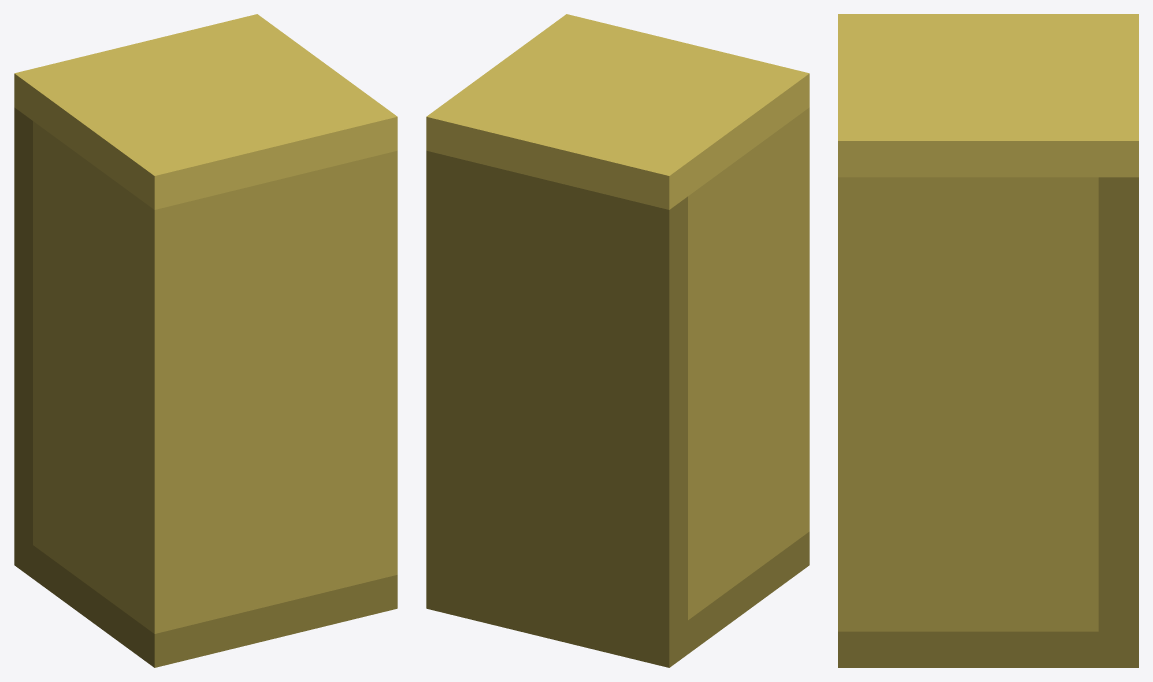
Rendered from vitrina_joyas_desgastada_01.glb.
3 views of the same model, side by side, from view 1: azimuth 30°, elevation 25°; view 2: azimuth 150°, elevation 25°; view 3: azimuth 270°, elevation 25° (orthographic). The views are drawn at different scales.
Visible parts, largest first — view 1: vitrina_joyas_desgastada; view 2: vitrina_joyas_desgastada; view 3: vitrina_joyas_desgastada.
Boxes of the visible parts, x1,y1,x2,y2 form: vitrina_joyas_desgastada: (14,14,397,667); vitrina_joyas_desgastada: (426,14,809,667); vitrina_joyas_desgastada: (838,14,1138,667).
Bounding box in the file's own units: 1 × 1.93 × 1.
